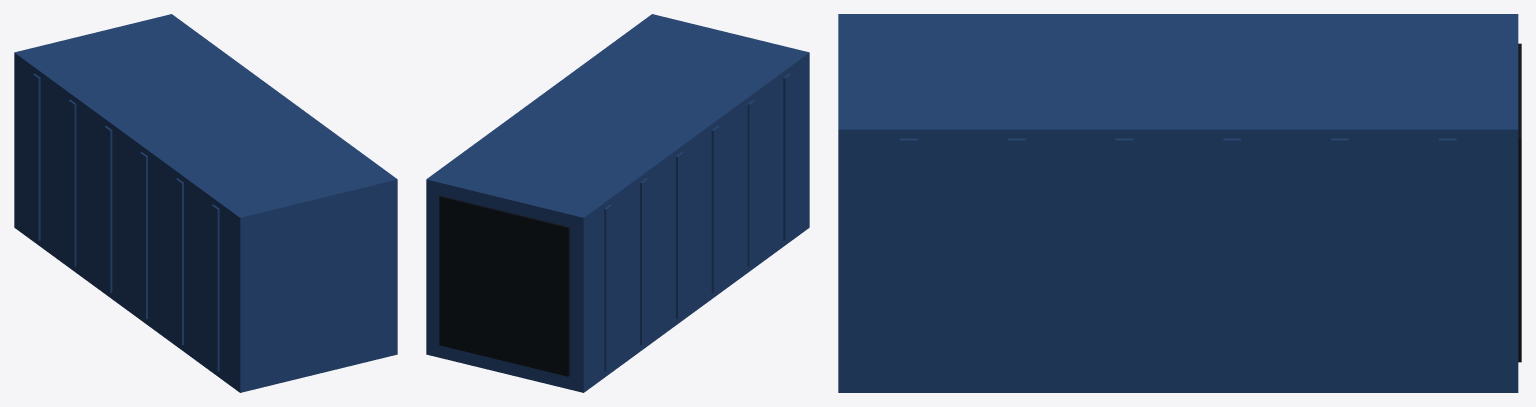
The model's file is bne_gse_container_blue.dae.
3 views of the same model, side by side, from view 1: azimuth 30°, elevation 25°; view 2: azimuth 150°, elevation 25°; view 3: azimuth 270°, elevation 25° (orthographic). The views are drawn at different scales.
Parts seen in each view (by area): view 1: bne_gse_container_blue160; view 2: bne_gse_container_blue160; view 3: bne_gse_container_blue160.
Boxes of the visible parts, left/top/right/bottom form: bne_gse_container_blue160: left=14, top=14, right=397, bottom=392; bne_gse_container_blue160: left=426, top=14, right=809, bottom=392; bne_gse_container_blue160: left=838, top=14, right=1521, bottom=392.
Size of the model in its own units: 2.5 by 6.09 by 2.59.
